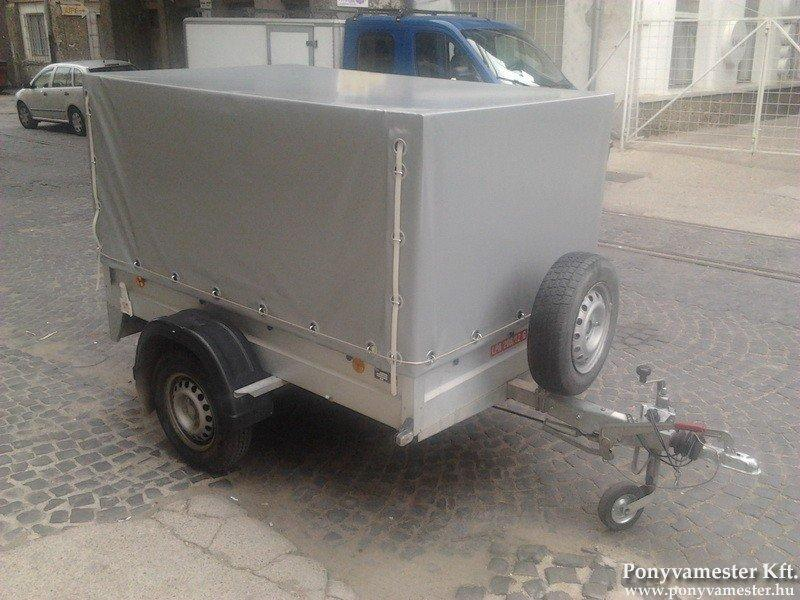trailer: (79, 63, 618, 447)
